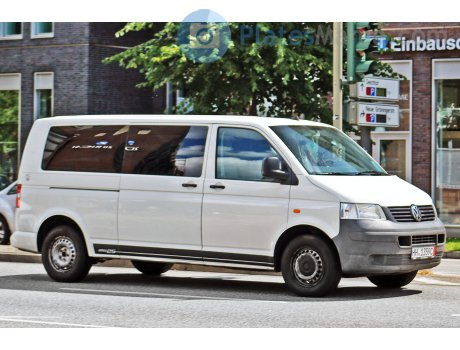License Plates: (417, 247, 436, 255)
